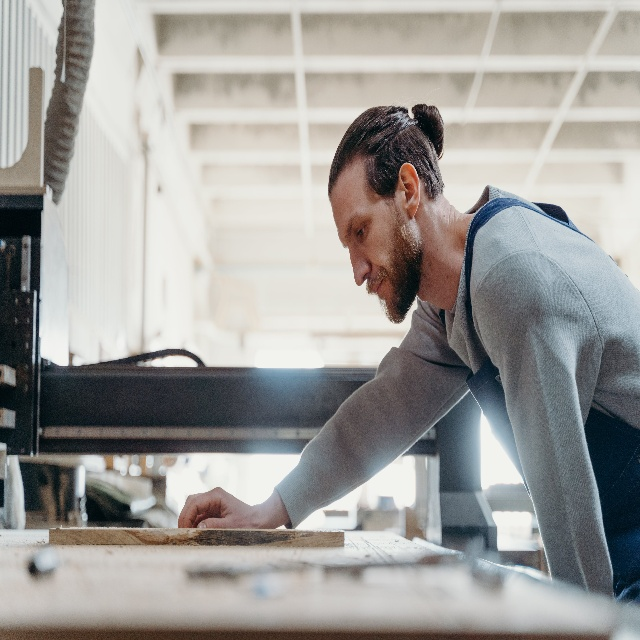Sin_guantes: (176, 484, 283, 539)
